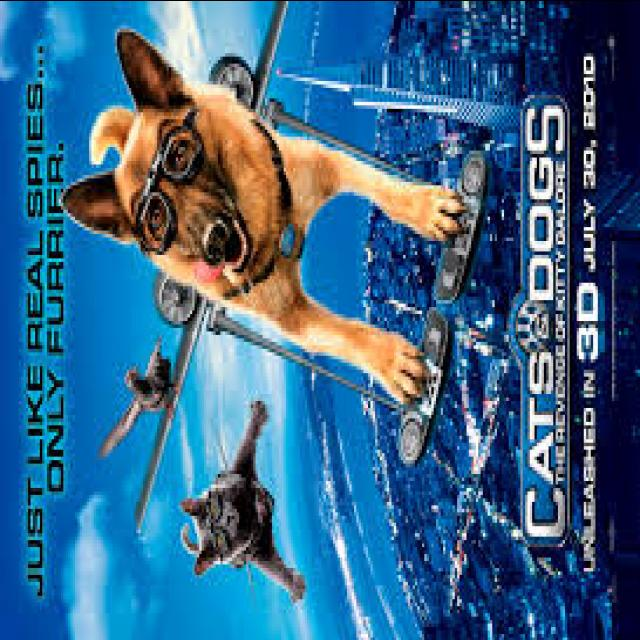cat: (160, 398, 311, 610)
dog: (45, 26, 476, 412)
